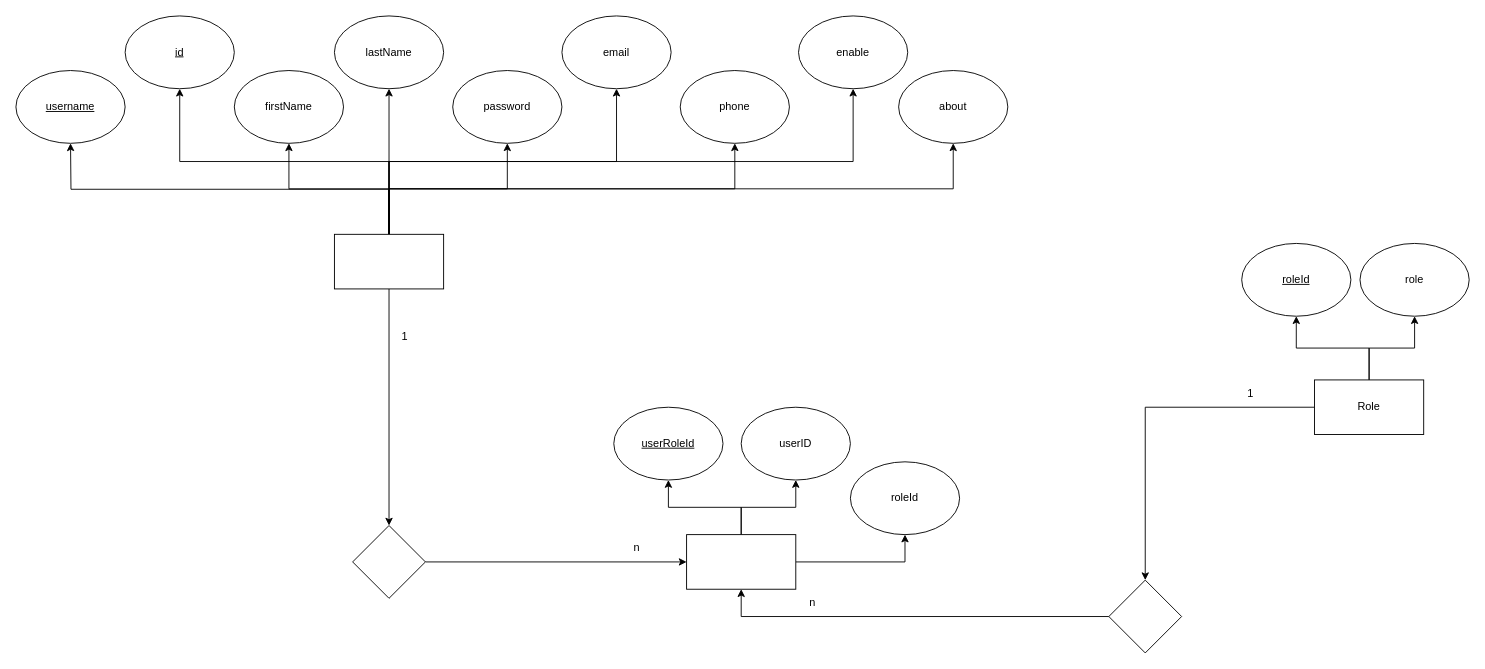
The diagram is 1485 pixels wide and 669 high, and some of its shapes have lost their labels. Each missing label, with the centre of its shape:
User: [389,261]
User_Role: [741,561]
